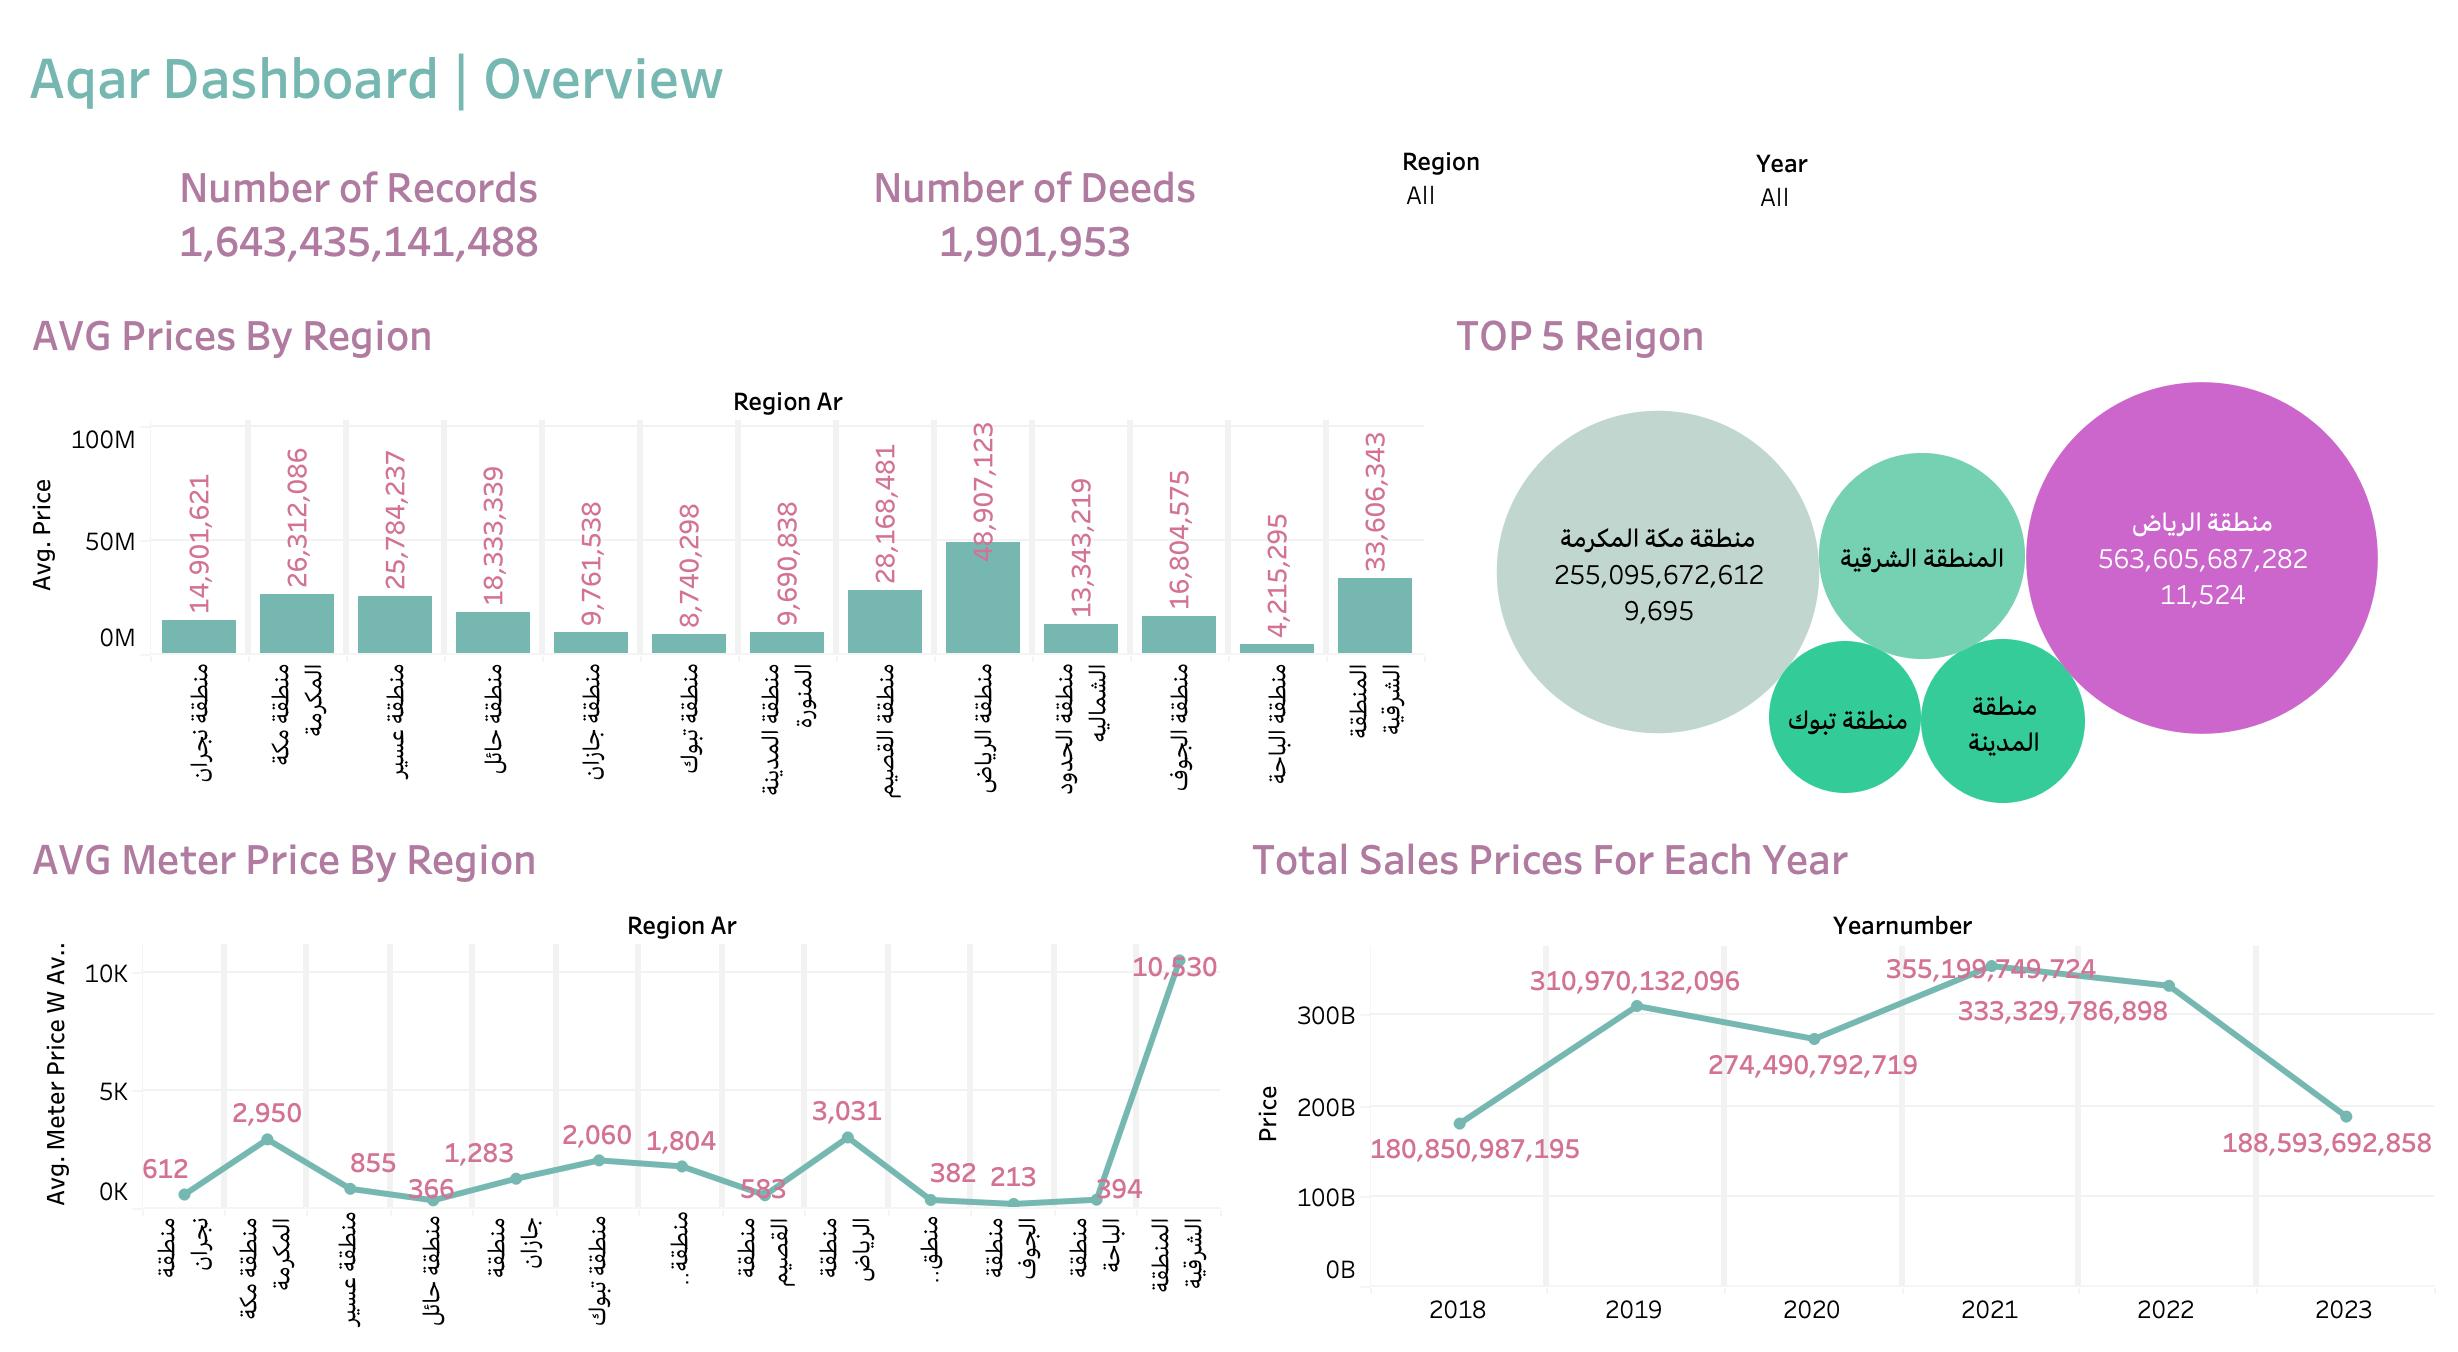

The dashboard page shown, as its layout file describes it:
{"tool":"tableau","page":{"name":"Dashboard  ","canvas":[1000,1000],"units":"permille","ordinal":0},"visuals":[{"type":"text","box":[6.5,11.8,987,90.8]},{"type":"filter","title":"Sheet 2","param":"[federated.0cx9y4u1a2990j13jxauc1nu54fj].[none:region_ar:nk]","box":[567.1,99,132.6,76.9]},{"type":"worksheet","title":"Sheet 6","mark":"Automatic","box":[6.5,102.7,279,108.3]},{"type":"worksheet","title":"Sheet 7","mark":"Automatic","box":[285.5,102.7,270.9,108.3]},{"type":"filter","title":"Sheet 2","param":"[federated.0cx9y4u1a2990j13jxauc1nu54fj].[none:yearnumber:ok]","box":[714.4,106.4,136.7,96]},{"type":"worksheet","title":"Sheet 1","mark":"Automatic","rows":["Price"],"cols":["region_ar"],"box":[6.5,211,576.1,388.6]},{"type":"worksheet","title":"Sheet 3","mark":"Circle","box":[582.6,211,410.9,388.6]},{"type":"worksheet","title":"Sheet 5","mark":"Line","rows":["Meter_Price_W_Avg_IQR"],"cols":["region_ar"],"box":[6.5,599.6,493,388.6]},{"type":"worksheet","title":"Sheet 2","mark":"Line","rows":["Price"],"cols":["yearnumber"],"box":[499.6,599.6,493.9,388.6]}]}

Visuals, with their boxes on the dashboard's canvas, which has no fixed pixel size, in thousandths of its width and height (x1, y1, x2, y2). These are canvas units, not pixel positions in the 2458x1352 screenshot, which may show the page scaled, cropped or inside an application window:
text: region(6, 12, 994, 103)
"Sheet 2" filter: region(567, 99, 700, 176)
"Sheet 6" worksheet: region(6, 103, 286, 211)
"Sheet 7" worksheet: region(286, 103, 556, 211)
"Sheet 2" filter: region(714, 106, 851, 202)
"Sheet 1" worksheet: region(6, 211, 583, 600)
"Sheet 3" worksheet (Circle marks): region(583, 211, 994, 600)
"Sheet 5" worksheet (Line marks): region(6, 600, 500, 988)
"Sheet 2" worksheet (Line marks): region(500, 600, 994, 988)
